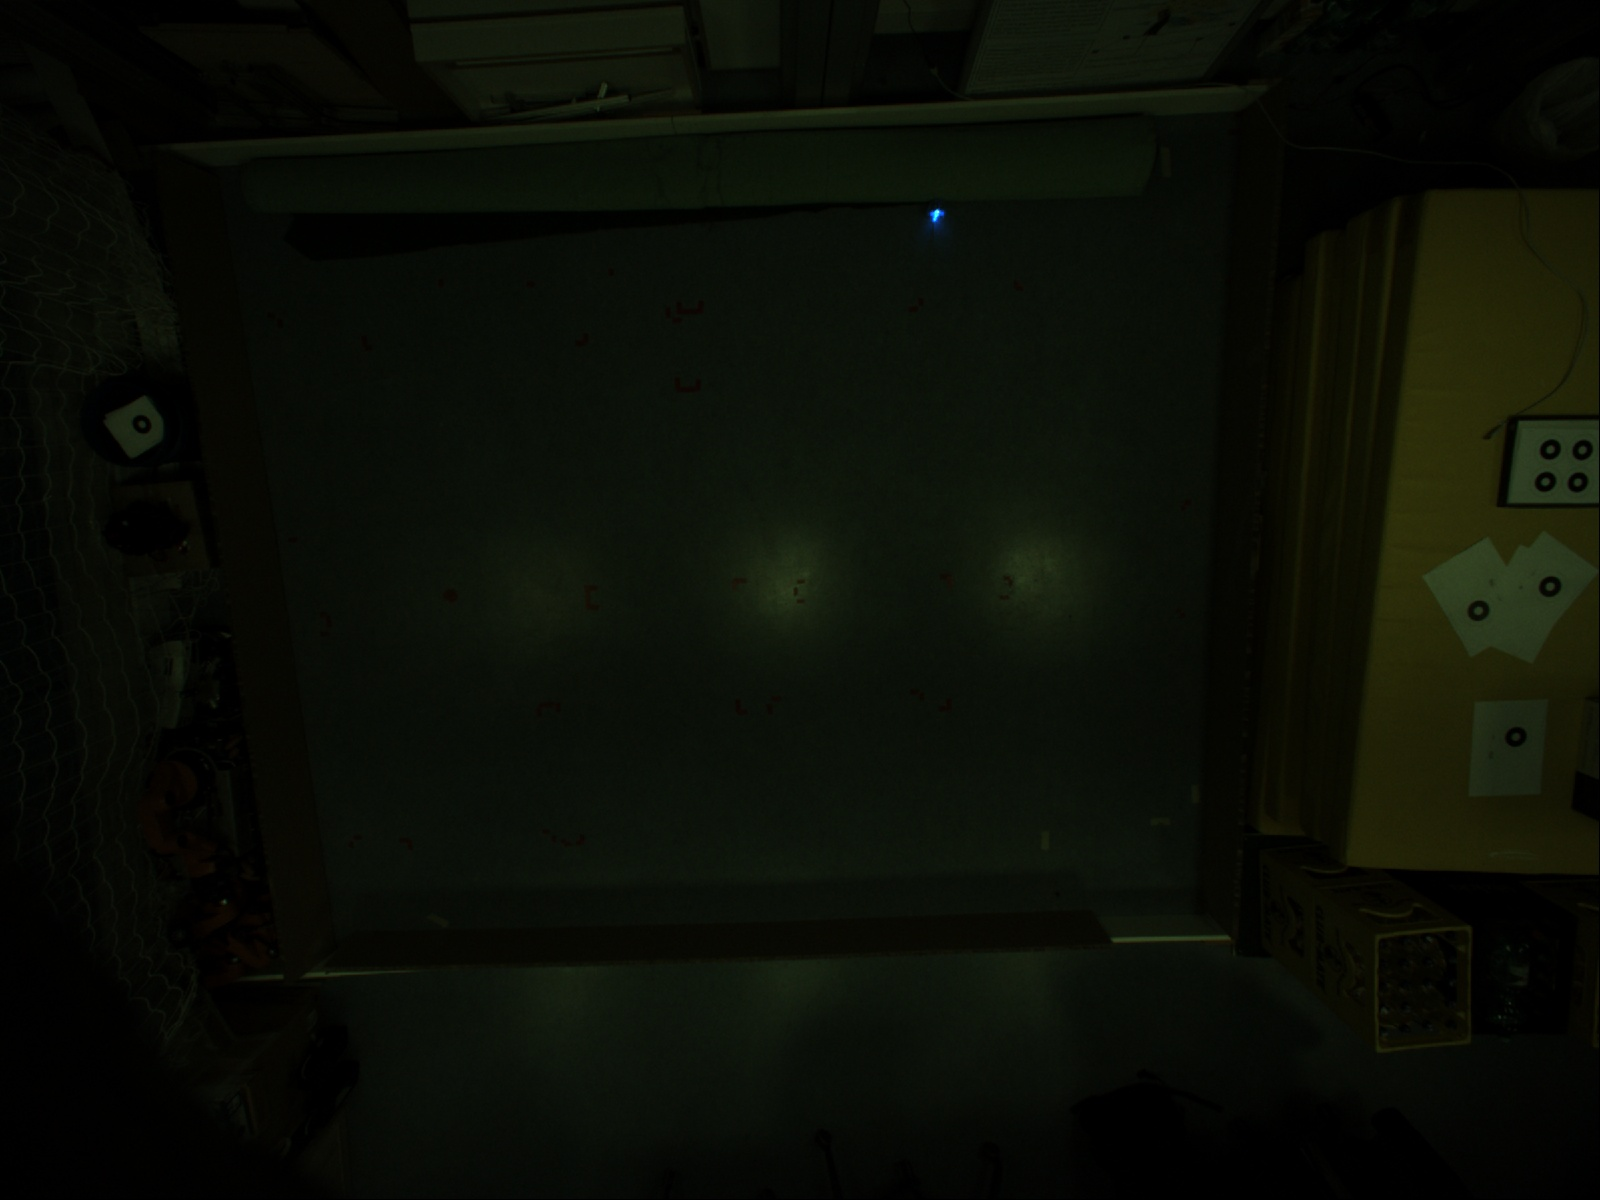sphero: (925, 200, 951, 228)
